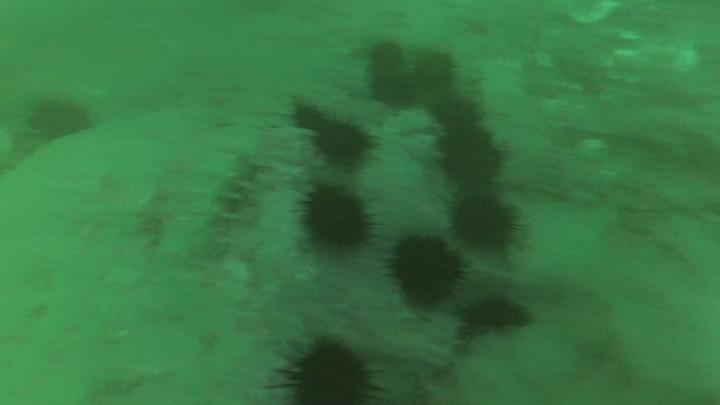echinus: (292, 341, 371, 405), (393, 237, 460, 303), (437, 128, 500, 190), (447, 195, 513, 252), (305, 191, 368, 249), (29, 100, 89, 139), (466, 297, 529, 330), (320, 121, 366, 164), (430, 94, 483, 130), (370, 70, 418, 108), (419, 50, 456, 83), (369, 42, 408, 73), (291, 107, 324, 130)
holothurian: (196, 152, 256, 239)
